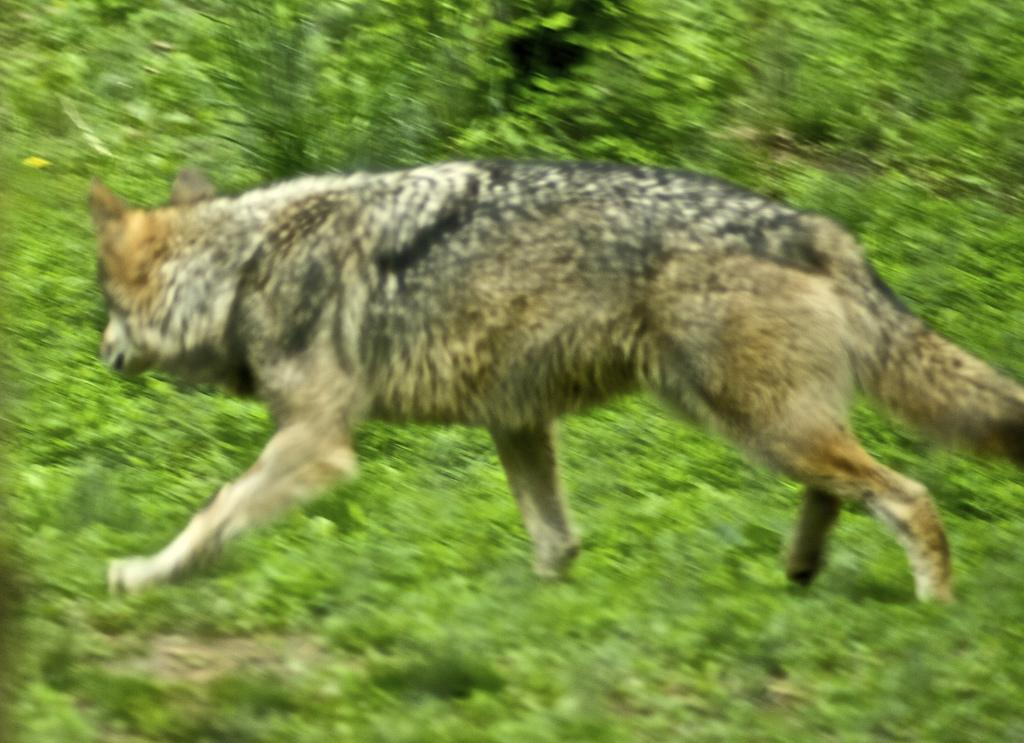Wolf: (81, 156, 1023, 611)
